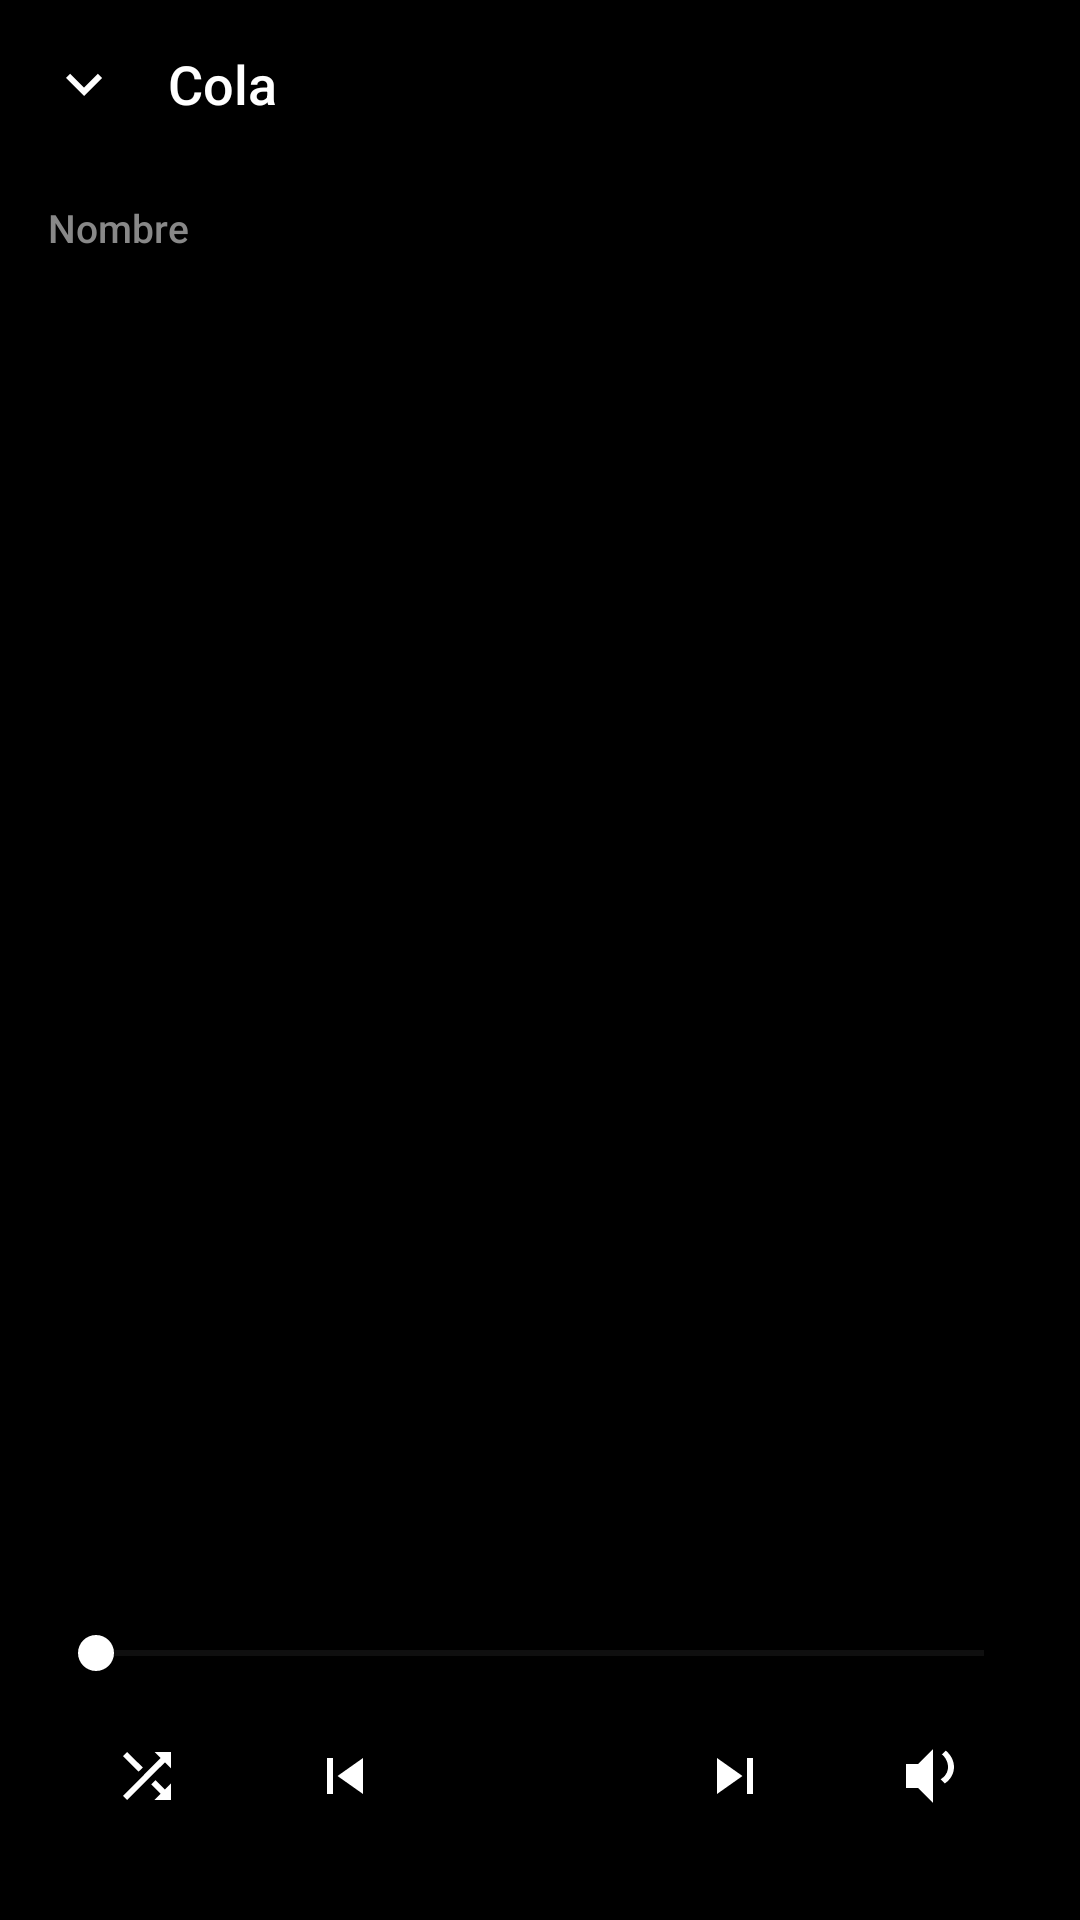

Where icons sit on this 1080×1920 app screen, as (x1, y1, x2, y2):
Aleatorio: (123, 1752, 171, 1800)
Anterior: (327, 1758, 363, 1794)
Cerrar: (66, 74, 102, 96)
Siguiente: (717, 1758, 753, 1794)
